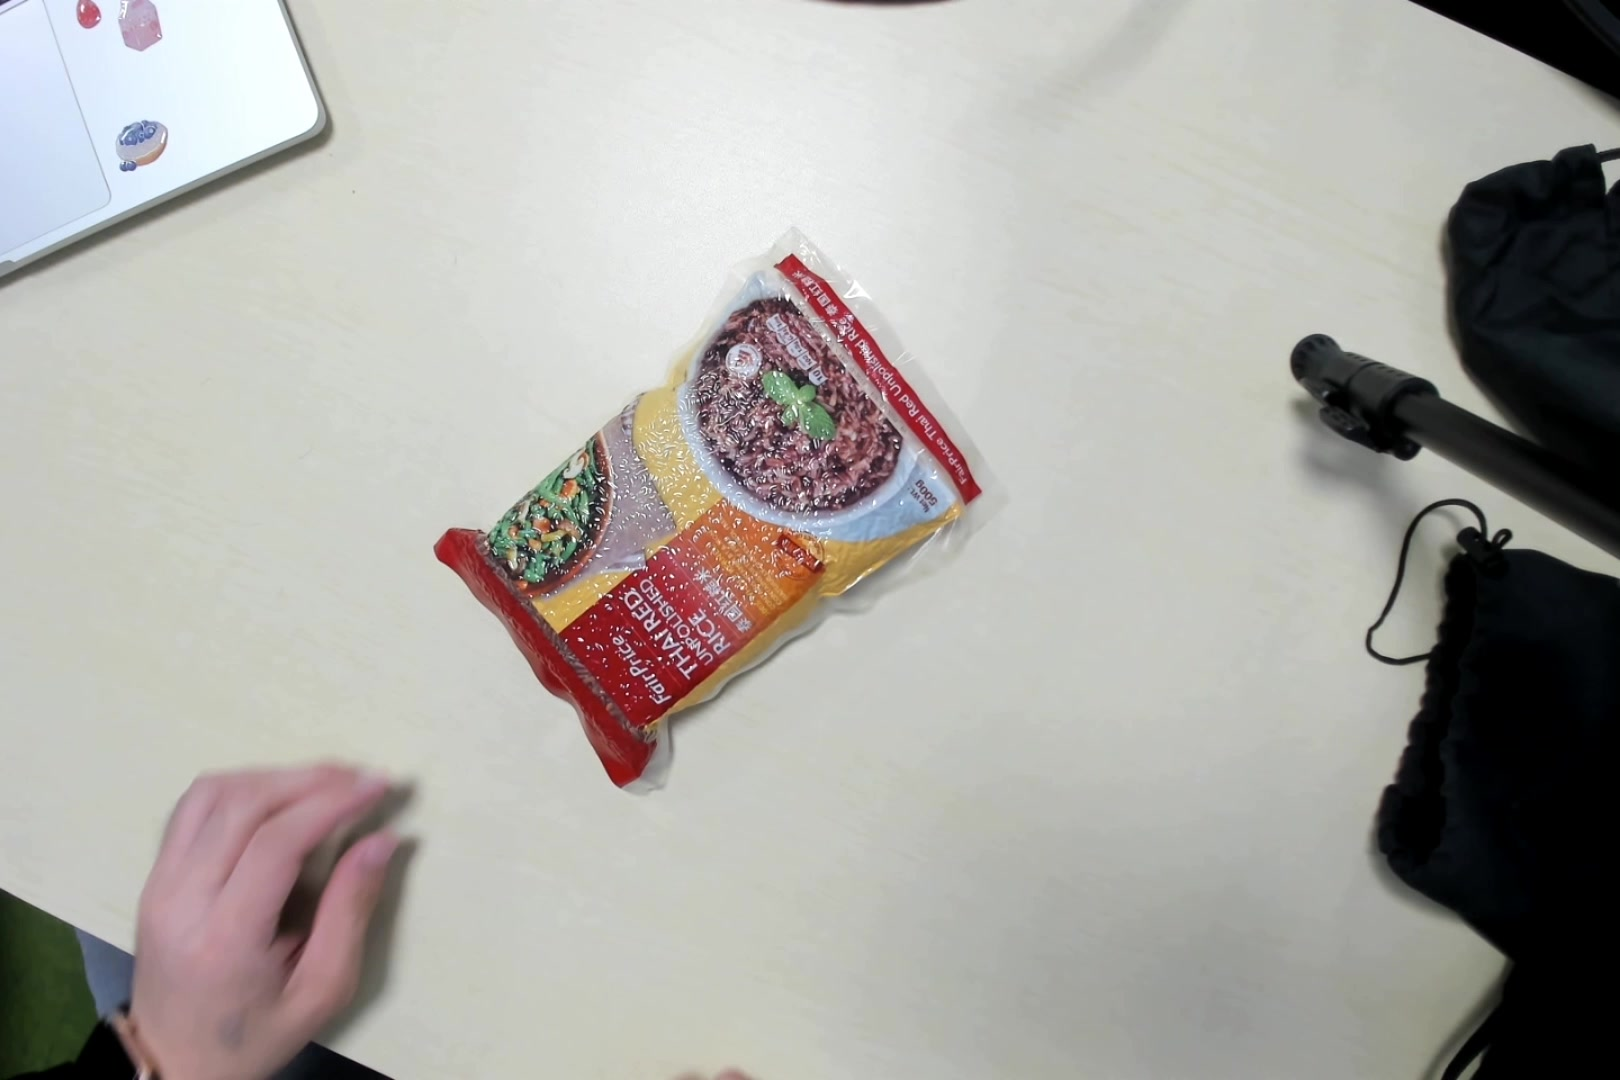Rice(BrownOthers)_500-599g_NonHalal_Healthy: (442, 237, 1011, 783)
